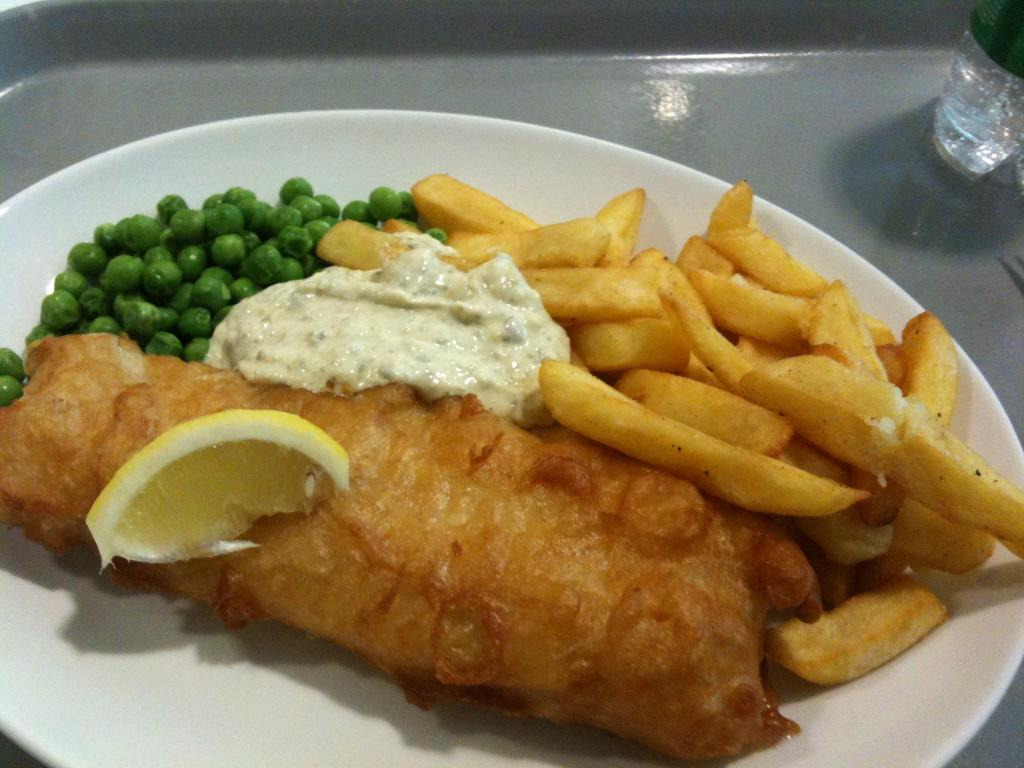French fries: (339, 168, 1023, 686)
